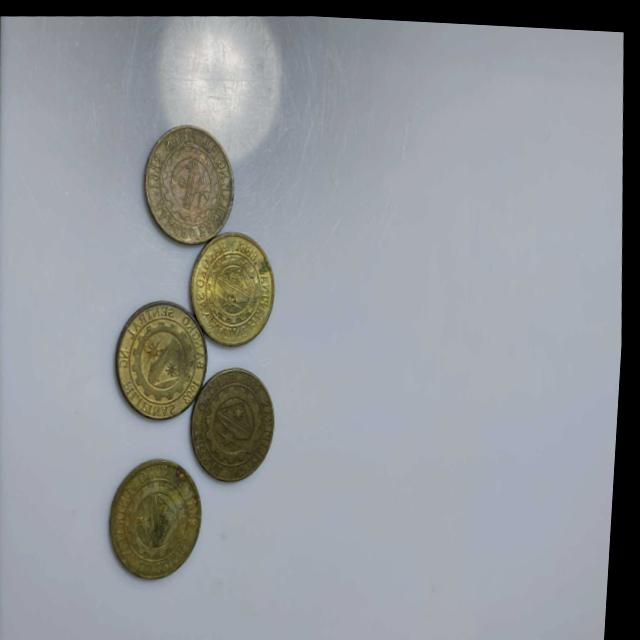25Cent_Old_Back: (109, 456, 211, 580), (116, 296, 213, 426), (144, 119, 240, 242), (187, 229, 281, 347), (194, 361, 281, 480)
